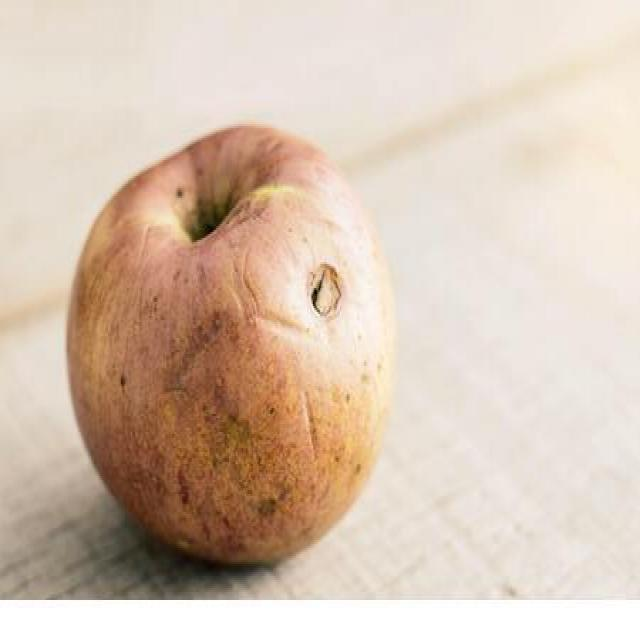Rotten: (59, 112, 394, 570)
